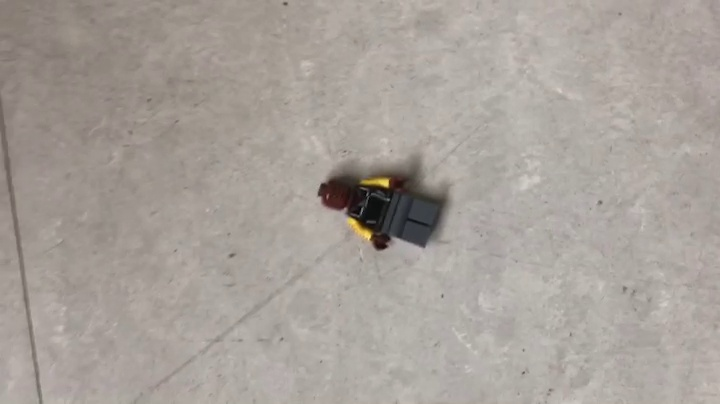people: (317, 174, 445, 252)
